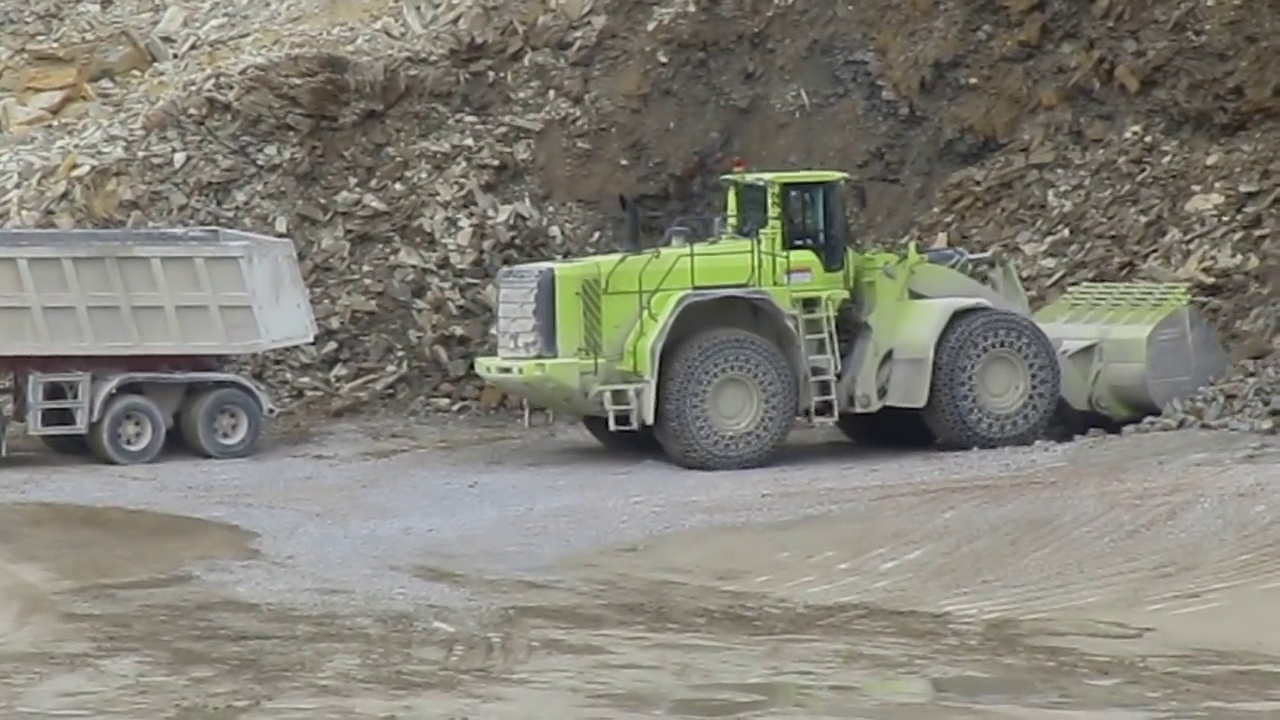truck: (2, 221, 319, 459)
wheel loader: (474, 157, 1238, 469)
